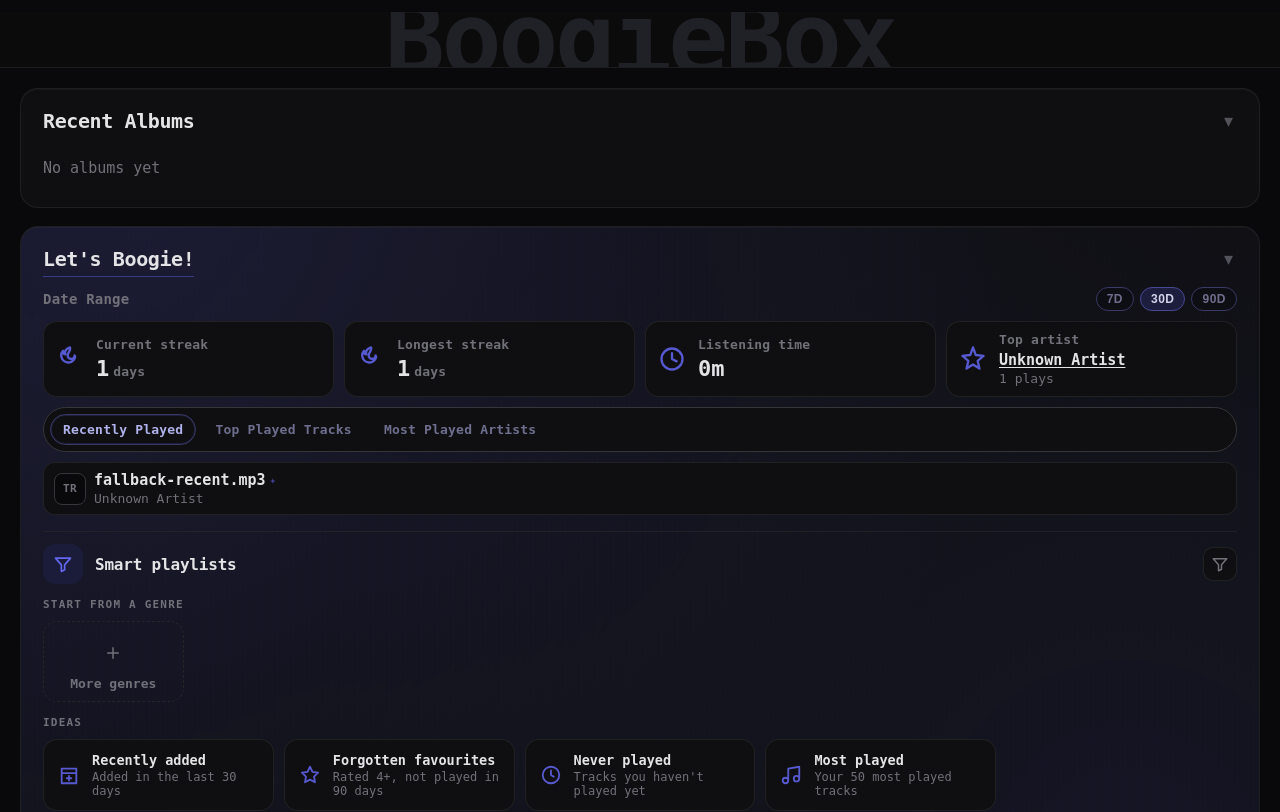
Test: HomeView playback activity tabs › keeps playback fallbacks and fingerprint indicators after cached activity loads
Check: the text "Unknown Artist" is shown, box [94,491,204,506]
Click the tab "Most Played Artists" at (460, 430), box [371,414,549,445]
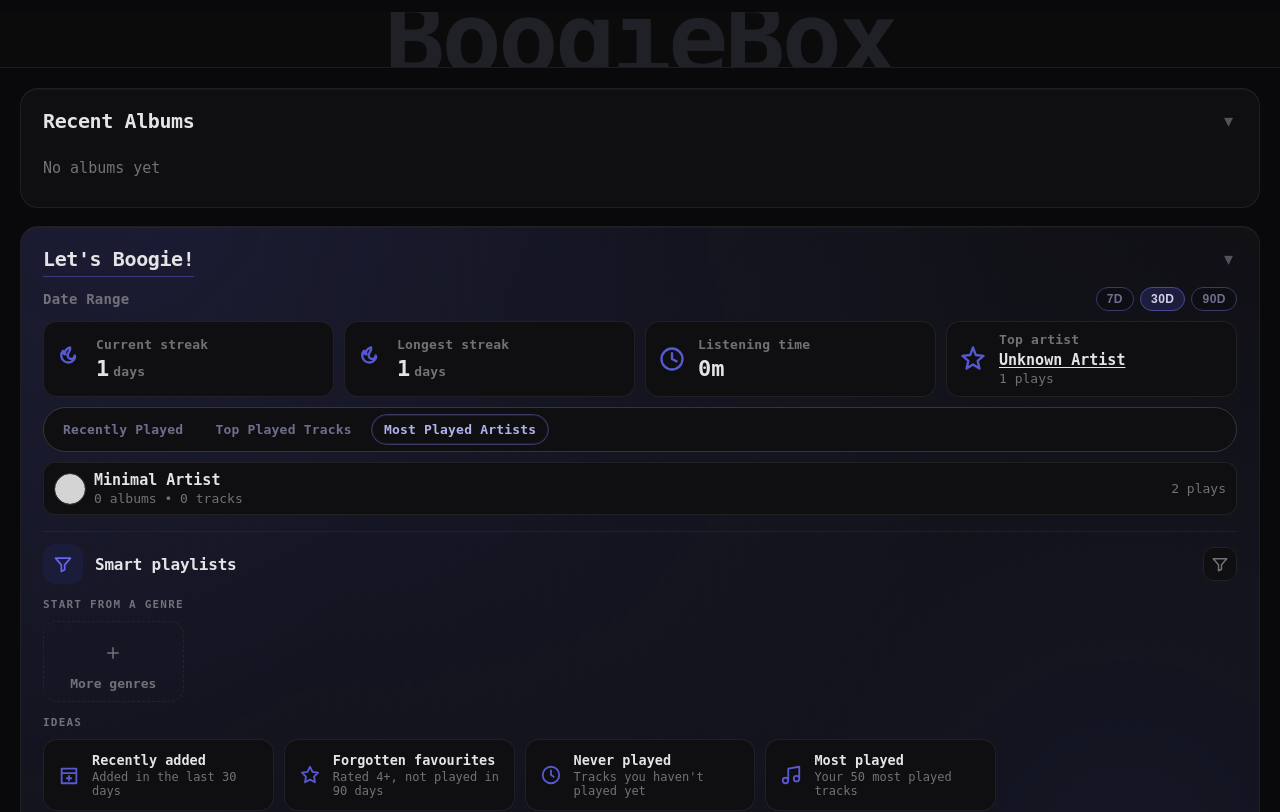
Check: the button with aria-label "Open artist Minimal Artist" shows "0 albums", box [43,462,1237,515]
Check: the button with aria-label "Open artist Minimal Artist" shows "2 plays", box [43,462,1237,515]
